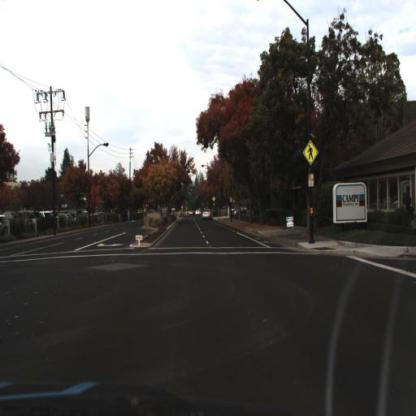car: (202, 208, 215, 222)
